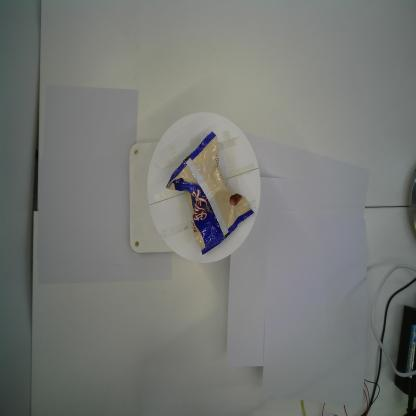Dessert: (165, 130, 255, 256)
